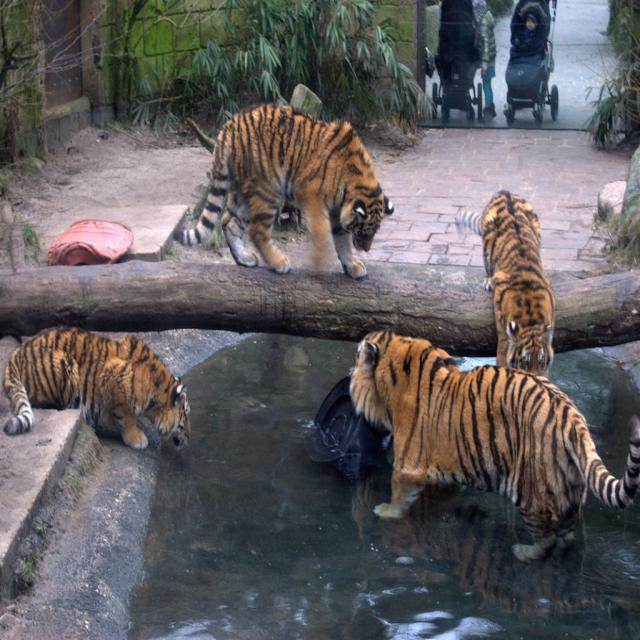Tiger: (342, 334, 640, 558), (174, 102, 396, 274), (449, 190, 560, 386), (8, 320, 192, 433)
